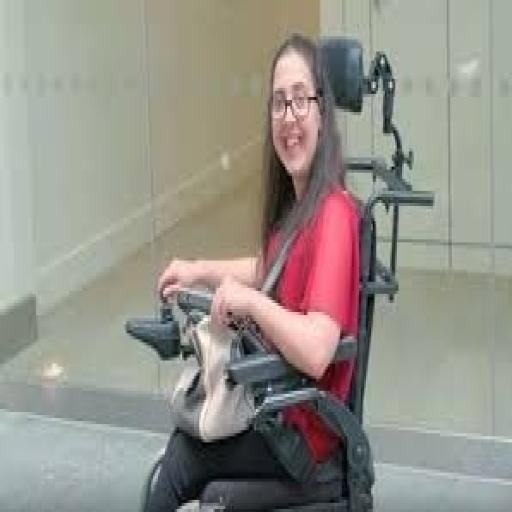sitting: (141, 30, 364, 509)
